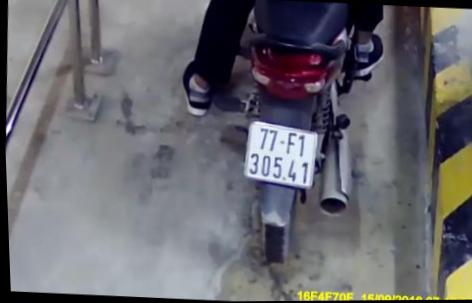LP: (240, 120, 319, 191)
